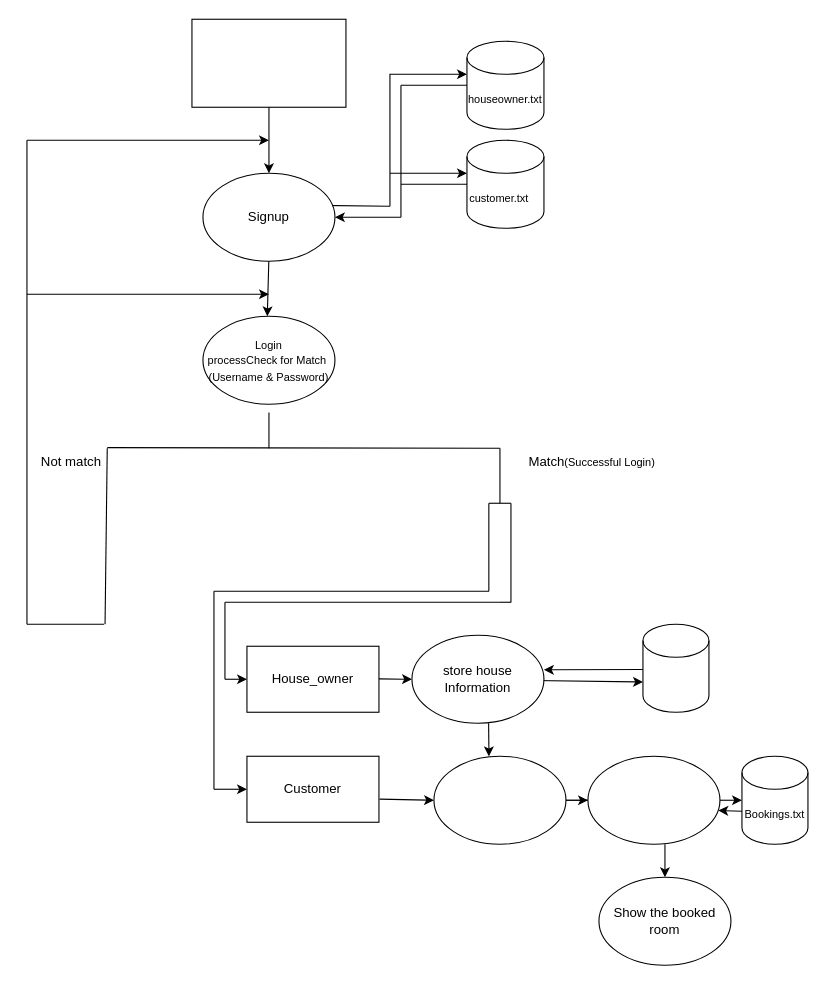
This 827x985 diagram has some shape labels left out. Here are the shapes that lost their labels. From the top down, the centre of each, then its label:
At point 268,62: "House_owner /Customer".
At point 675,667: "land.txt".
At point 499,799: "show house information to customer".
At point 653,799: "Book room".
